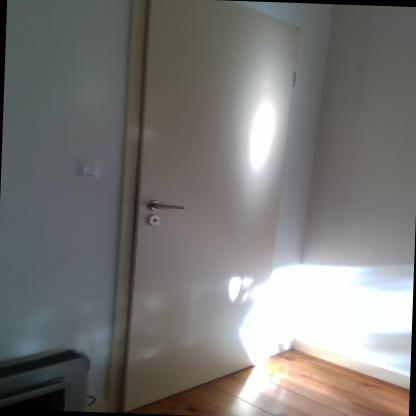closed: (112, 0, 308, 416)
